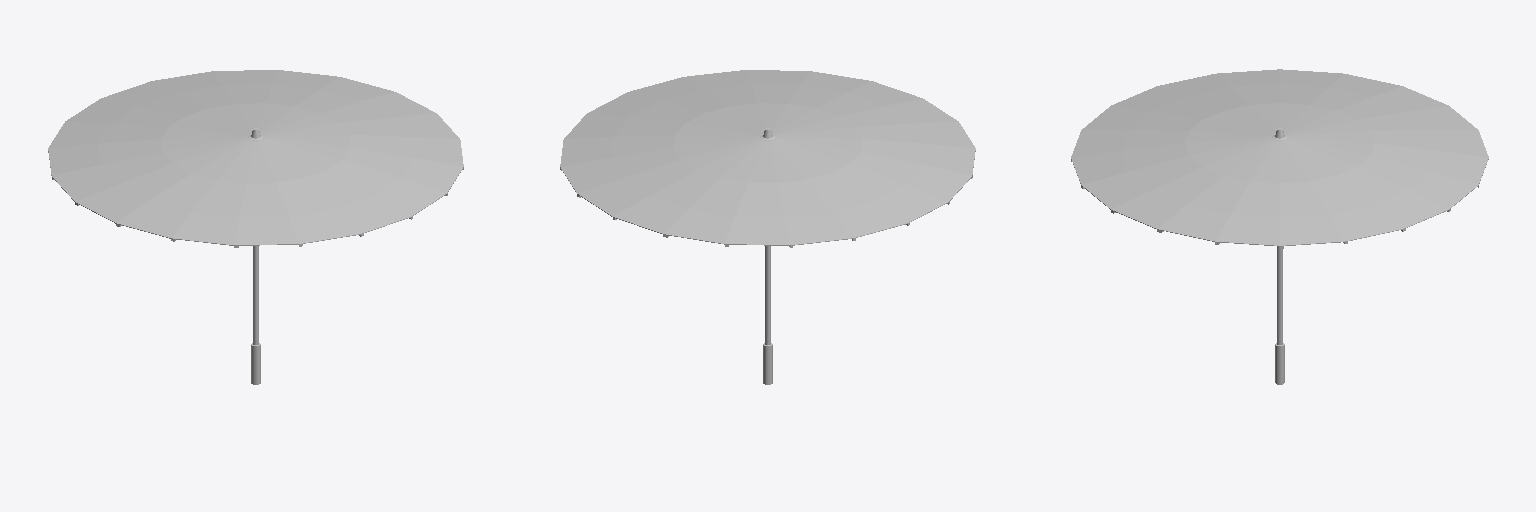
File: Japanese umbrella.obj
3 renders of one model, left to right at view 1: azimuth 30°, elevation 25°; view 2: azimuth 150°, elevation 25°; view 3: azimuth 270°, elevation 25°, orthographic.
Parts seen in each view (by area): view 1: Circle, Cylinder; view 2: Circle, Cylinder; view 3: Circle, Cylinder.
Boxes of the visible parts, <box> form: Circle: <box>48,70,463,247</box>; Cylinder: <box>248,128,263,384</box>; Circle: <box>560,70,975,247</box>; Cylinder: <box>760,128,775,384</box>; Circle: <box>1071,69,1488,248</box>; Cylinder: <box>1272,128,1287,384</box>.
Size of the model in its own units: 3.98 by 2.67 by 3.98.